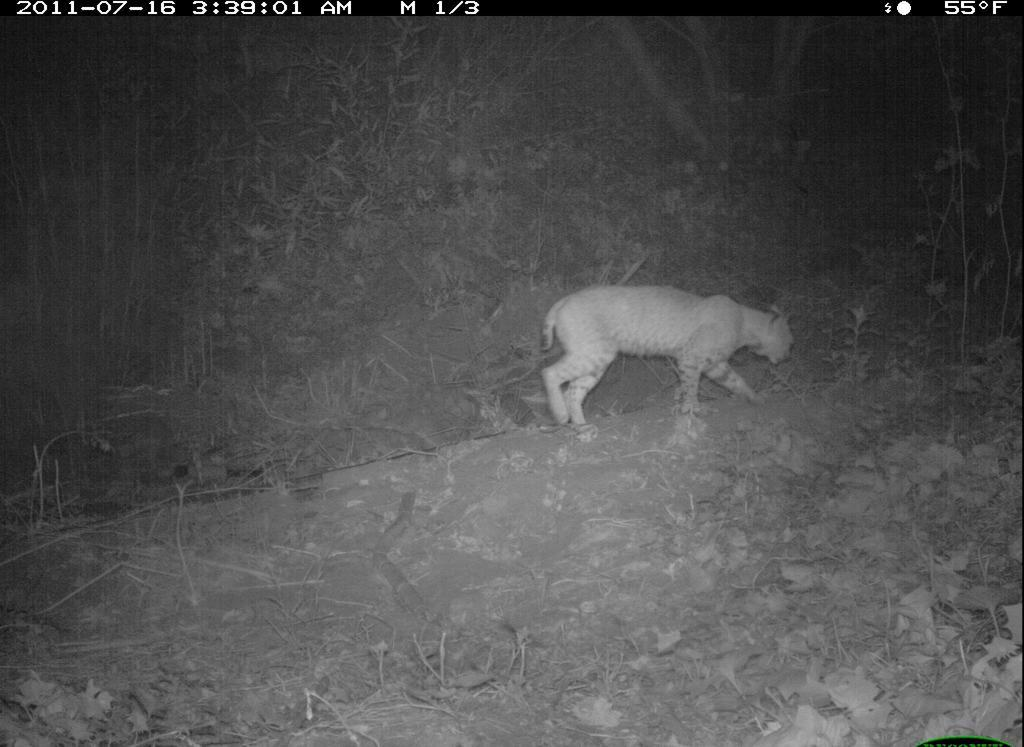bobcat: (513, 274, 807, 436)
